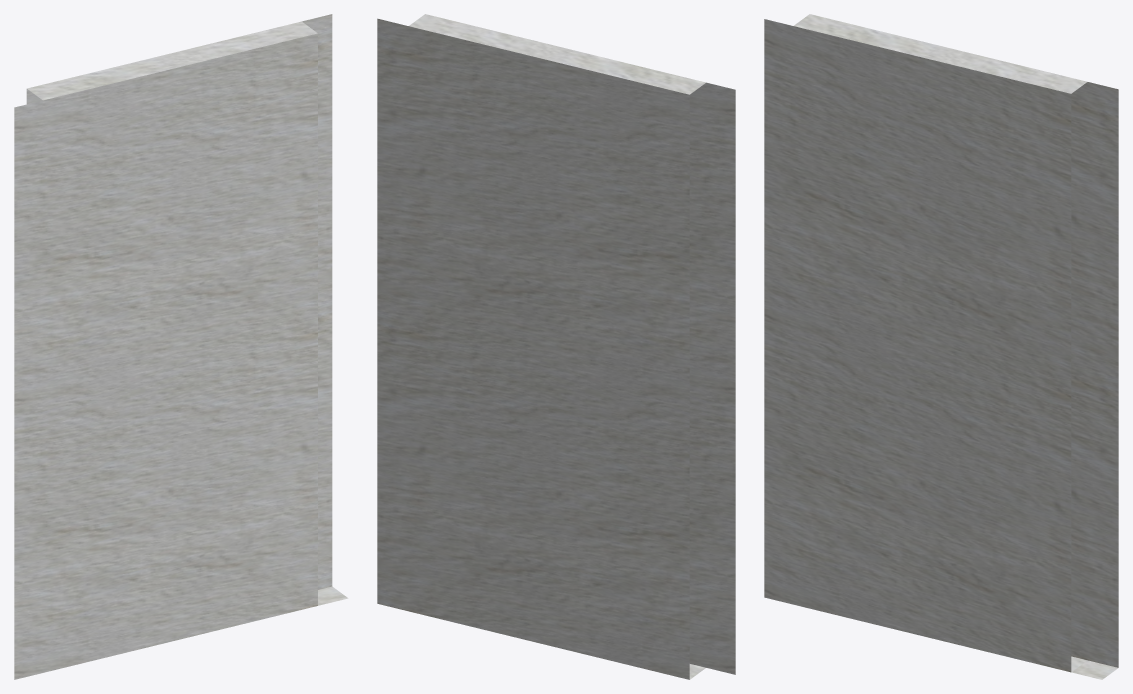
The model's file is wall_02.obj.
3 renders of one model, left to right at view 1: azimuth 30°, elevation 25°; view 2: azimuth 150°, elevation 25°; view 3: azimuth 330°, elevation 25°, orthographic. The views are drawn at different scales.
Visible parts, largest first — view 1: Cube.001; view 2: Cube.001; view 3: Cube.001.
Boxes of the visible parts, bbox=[...] form: Cube.001: bbox=[14, 14, 348, 679]; Cube.001: bbox=[377, 14, 735, 679]; Cube.001: bbox=[764, 14, 1118, 679].
Bounding box in the file's own units: 3.13 × 5.13 × 0.2644.
Materials: 1 (1 with a texture image).
